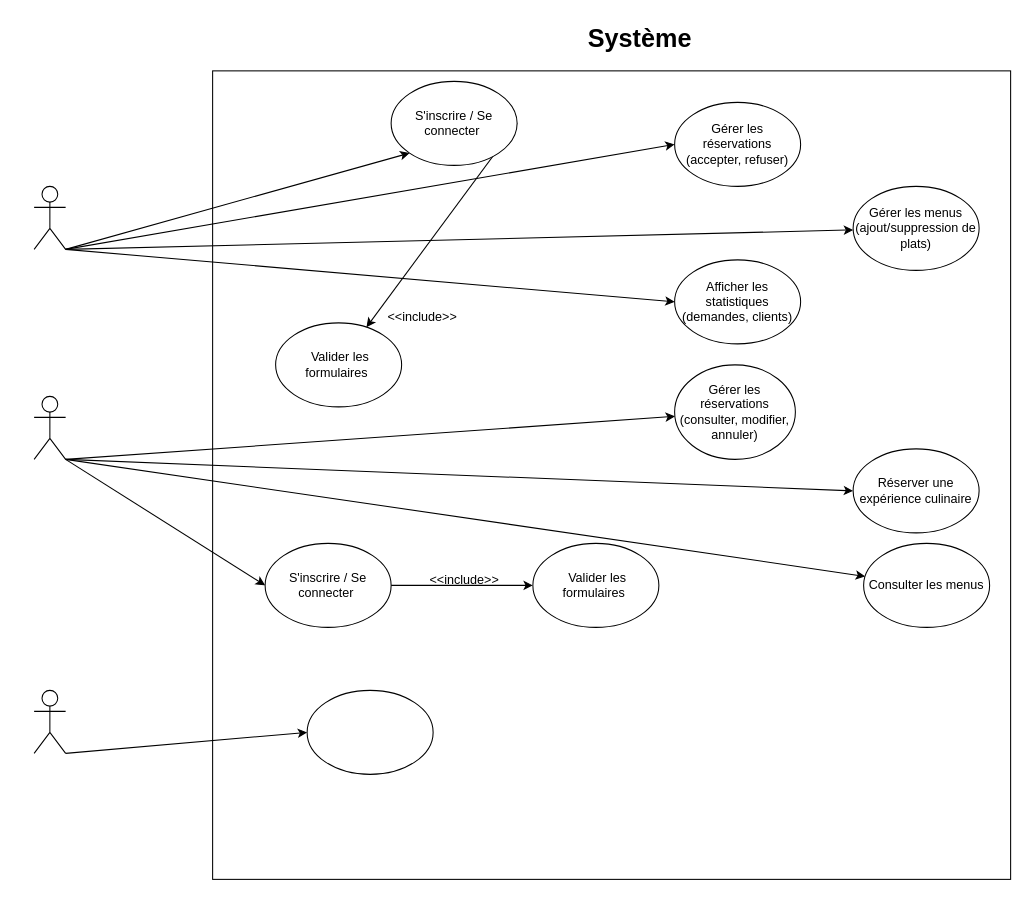
Image size: 1029x898. Some labels were removed from this diagram. Here are the shapes that lost their labels. From the top down, the centre of each, then its label:
[49,217]: Chaf
[49,427]: Utilisateur
[49,721]: Guest
